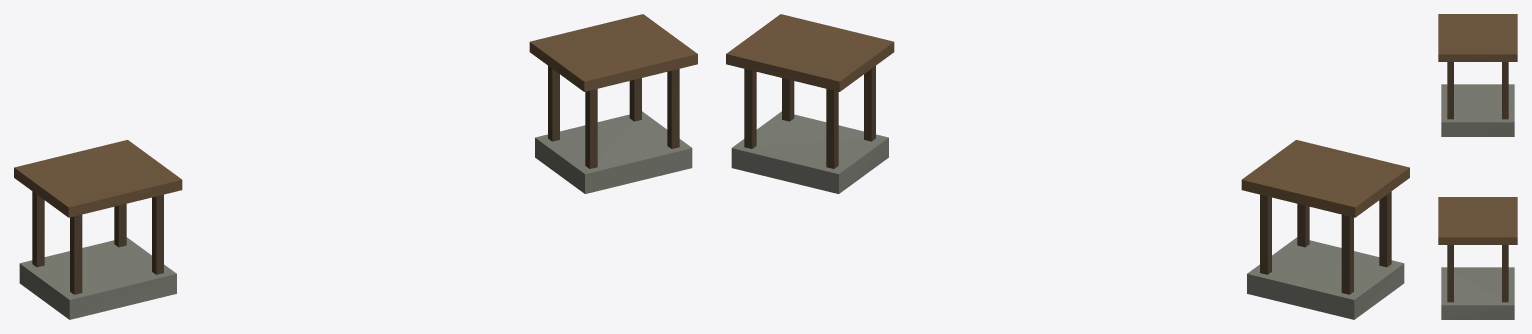
Rendered from MIL-02-3.glb.
3 renders of one model, left to right at view 1: azimuth 30°, elevation 25°; view 2: azimuth 150°, elevation 25°; view 3: azimuth 270°, elevation 25°, orthographic. The views are drawn at different scales.
Visible parts, largest first — view 1: city-details/MIL-02-3; view 2: city-details/MIL-02-3; view 3: city-details/MIL-02-3.
Boxes of the visible parts, x1,y1,x2,y2 form: city-details/MIL-02-3: [14, 14, 697, 319]; city-details/MIL-02-3: [726, 14, 1409, 319]; city-details/MIL-02-3: [1438, 14, 1517, 319].
Size of the model in its own units: 8.91 by 1.57 by 1.34.
